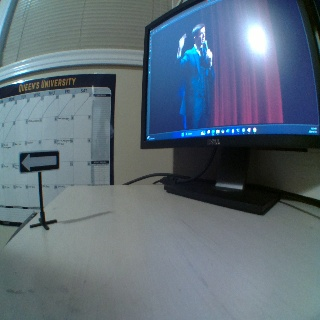sign_oneway_left: (19, 151, 60, 171)
